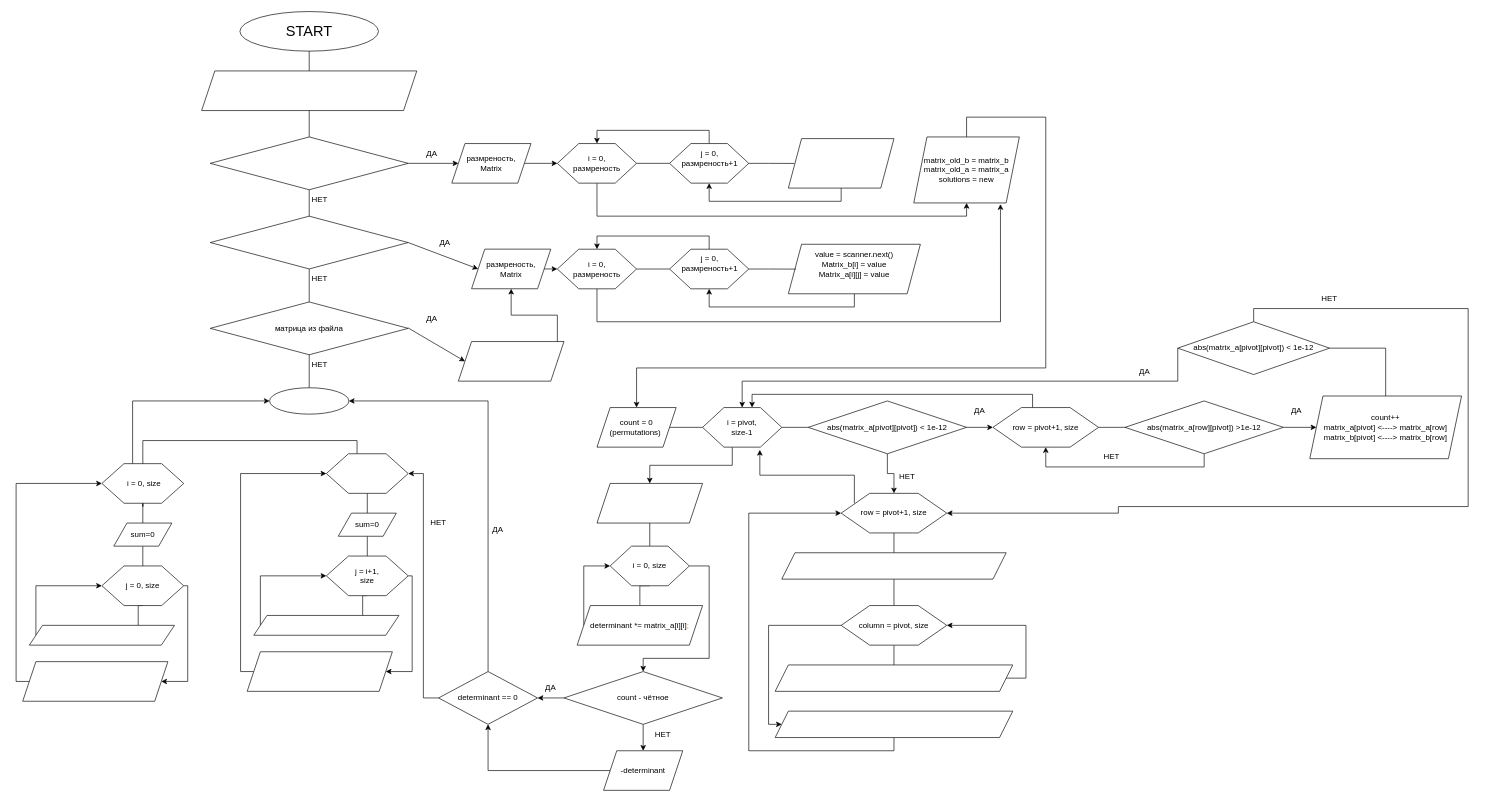
Image size: 1486x802. Some labels were removed from this diagram. Here are the shapes that lost their labels. From the top down, the centre of each, then its label:
the point at 309,90: Режим работы: choice
the point at 309,163: рандом матрица
the point at 841,163: Matrix_b[i] = random Matrix_a[i][j] = random
the point at 309,242: своя матрица
the point at 511,361: filename -> scanner
the point at 309,400: HLT
the point at 367,473: i = size-1, >=0, i--
the point at 649,503: determinant count - подсчитанный size = matrix_a.lenght
the point at 893,565: factor = matrix_a[row][pivot] / matrix_a [pivot][pivot]
the point at 102,635: sum+= matrix_old_a[i][j]* solutions [j] ;
the point at 326,625: sum += matrix_a[i][j] * solutions [j] ;
the point at 95,681: вывод: sum-matrix_old_b[I] вектор невязок
the point at 319,671: solutions[i] = ( matrix_b [i] - sum) / matrix_a [i][i] ;
the point at 894,677: matrix_a[row][column] -= factor * matrix_a [pivot][column] ;
the point at 894,724: matrix_b[row] -= factor * matrix_b [pivot] ;
